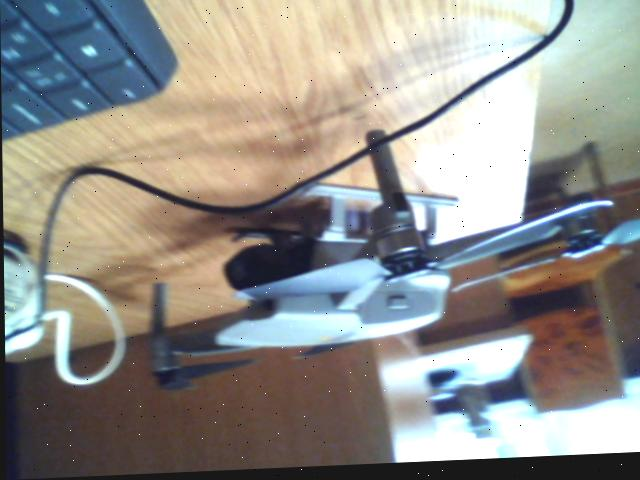drone: (90, 136, 640, 406)
